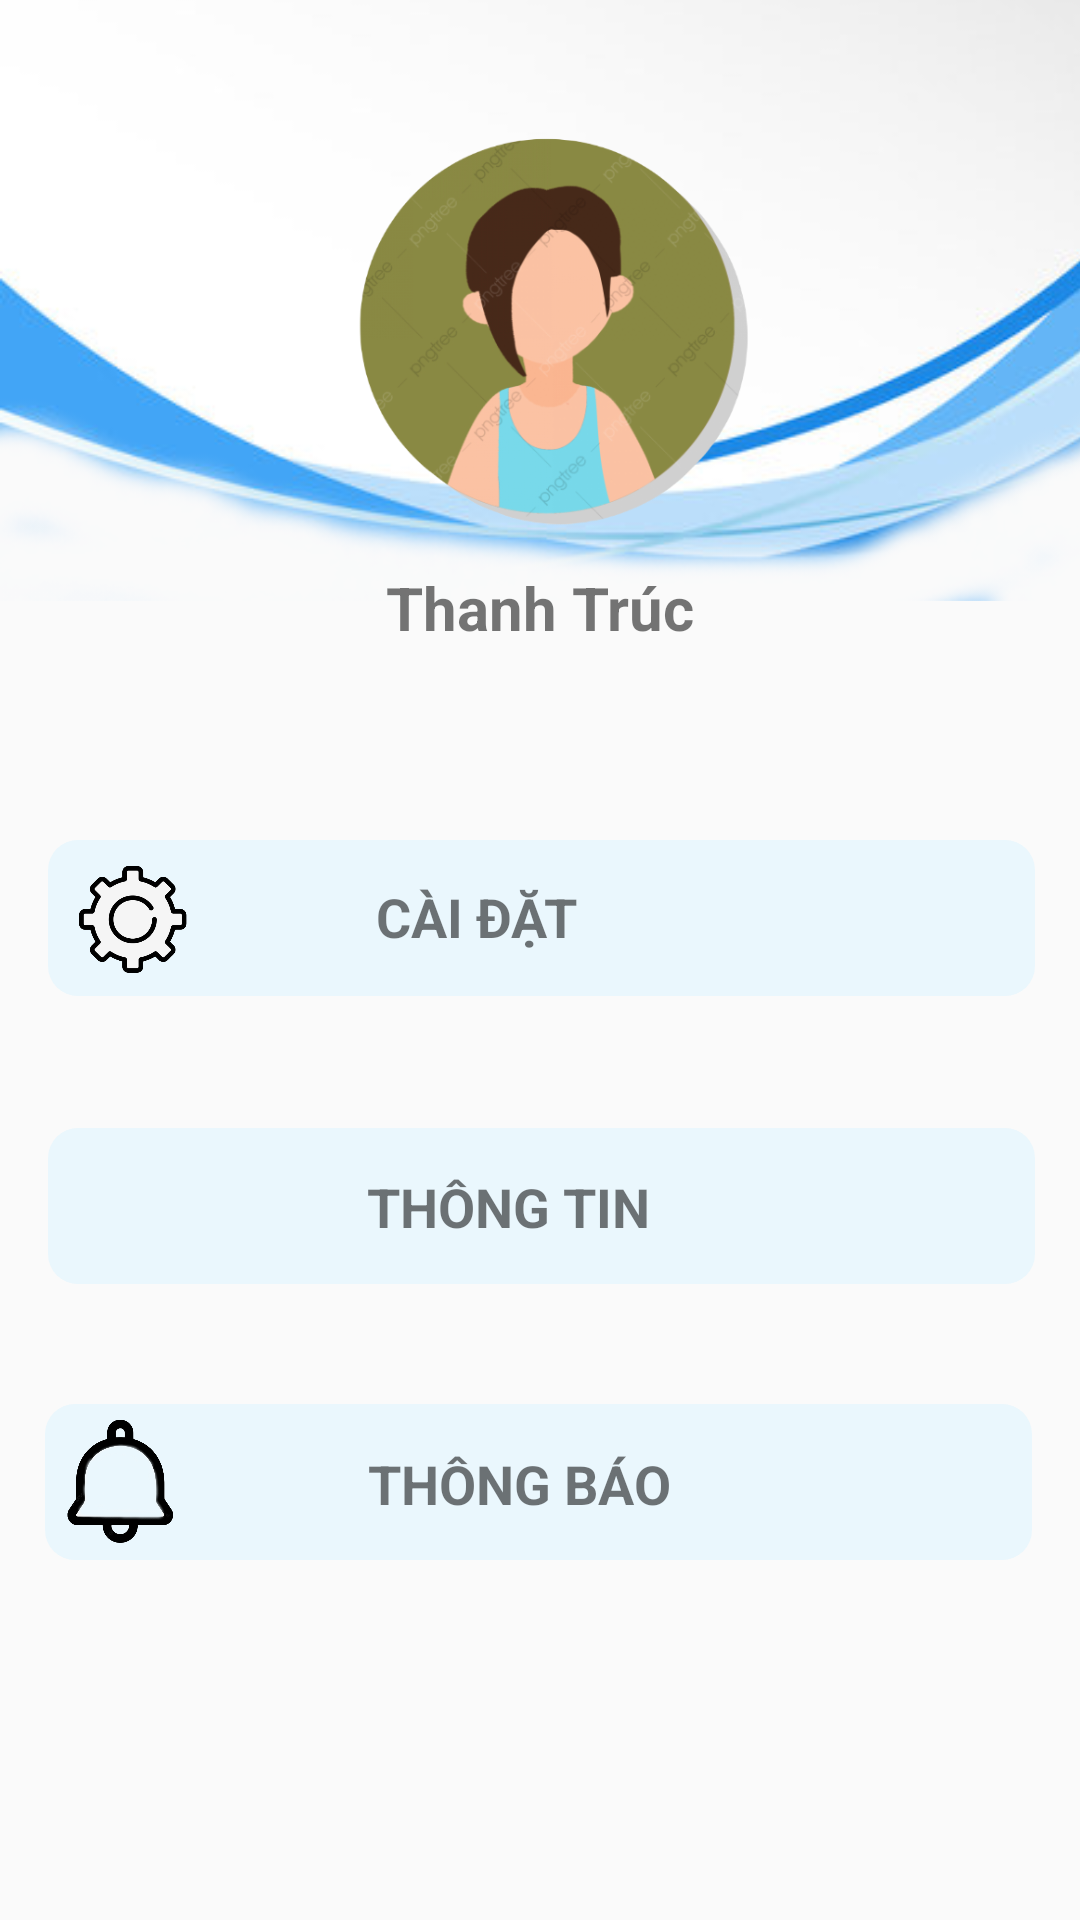

Icon bounding boxes for this 1080×1920 phone screenshot, format {"left": x1, "top": y1, "right": x2, "bottom": y2}:
bell: {"left": 67, "top": 1420, "right": 173, "bottom": 1543}
setting: {"left": 79, "top": 866, "right": 187, "bottom": 973}
